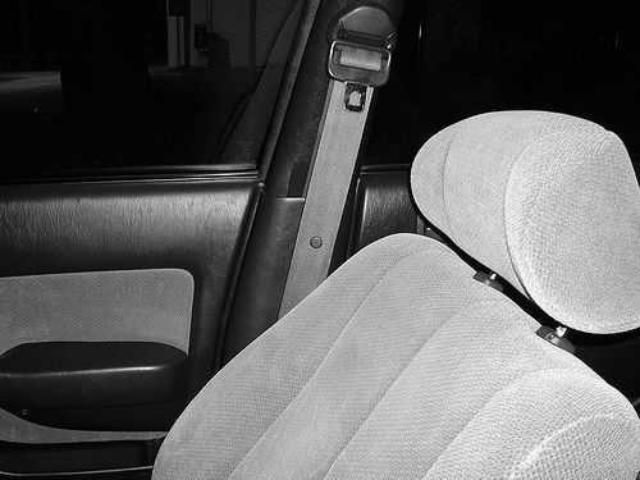Seatbelt: (271, 0, 401, 328)
